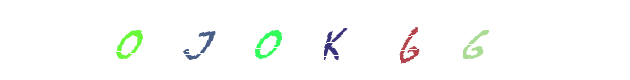G: (336, 0, 416, 80), (369, 0, 449, 80)
J: (228, 0, 308, 80)
K: (275, 0, 355, 80)
O: (90, 0, 170, 80), (230, 0, 310, 80)
